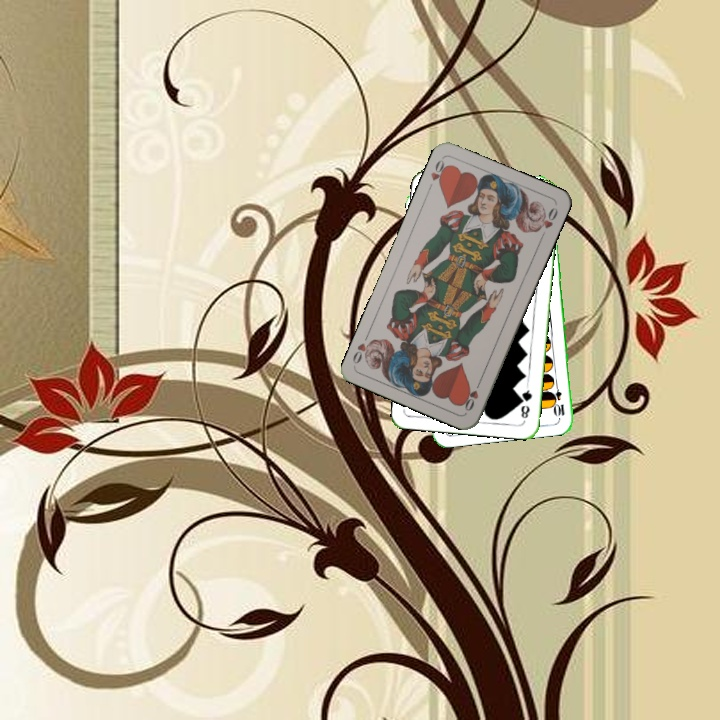E10: (550, 378, 567, 419)
G8: (517, 382, 535, 421)
HO: (460, 376, 484, 414), (427, 155, 451, 189)
